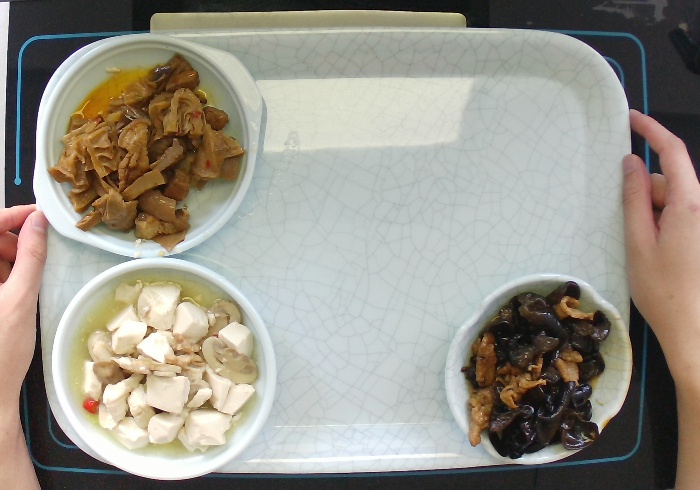JYsf-Ao_Yuan_Wan: (441, 266, 638, 472)
JYsf-Shuang_Er_Pan: (29, 29, 292, 259)
JYsf-Xiao_Yuan_Pan: (49, 256, 283, 484)
